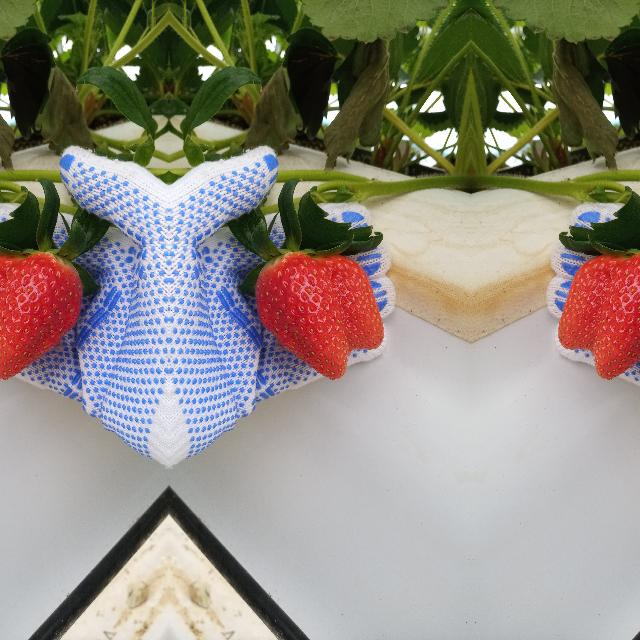Health_100: (253, 250, 385, 380), (556, 250, 640, 379), (0, 250, 83, 379)
